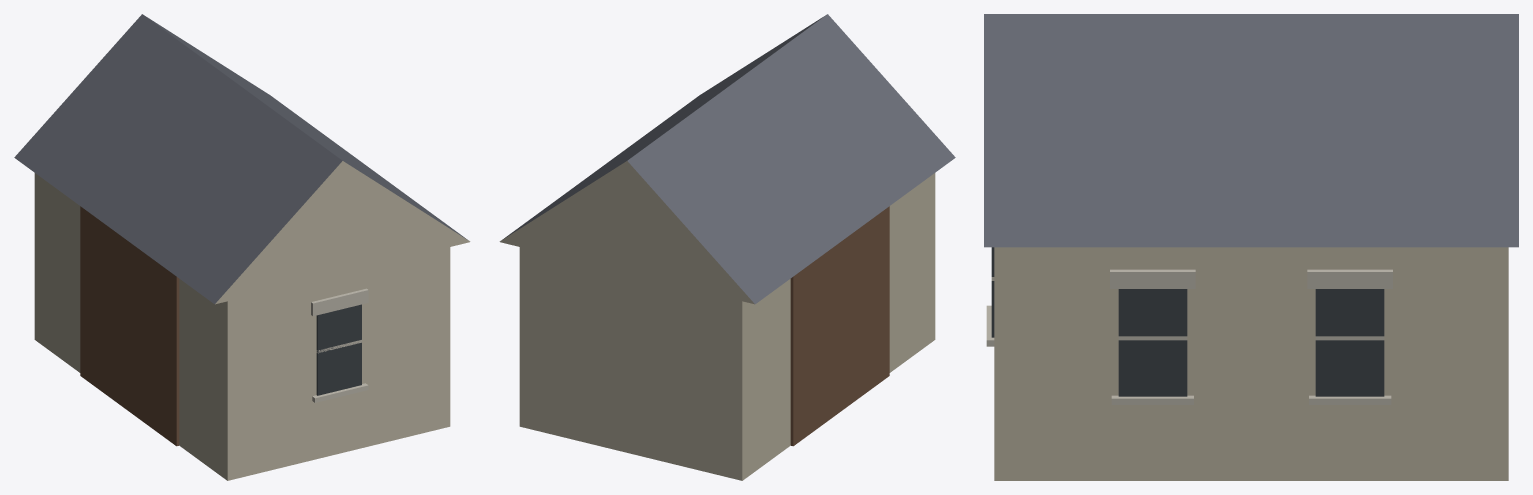
The model's file is house_1630_prairie_coach_house__draft_1904.glb.
3 views of the same model, side by side, from view 1: azimuth 30°, elevation 25°; view 2: azimuth 150°, elevation 25°; view 3: azimuth 270°, elevation 25° (orthographic). The views are drawn at different scales.
Visible parts, largest first — view 1: house_1630_prairie_coach_house__draft_1904; view 2: house_1630_prairie_coach_house__draft_1904; view 3: house_1630_prairie_coach_house__draft_1904.
Boxes of the visible parts, left/top/right/bottom form: house_1630_prairie_coach_house__draft_1904: left=14, top=14, right=470, bottom=480; house_1630_prairie_coach_house__draft_1904: left=499, top=14, right=955, bottom=480; house_1630_prairie_coach_house__draft_1904: left=984, top=14, right=1518, bottom=480.
Bounding box in the file's own units: 4.6 × 5.08 × 6.24.
